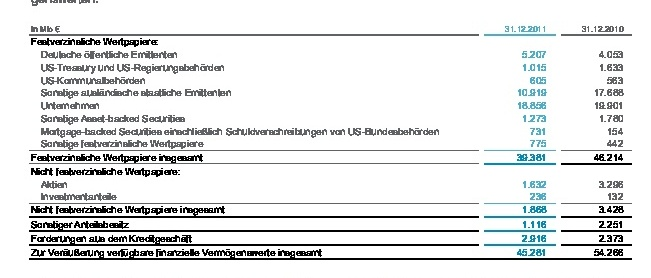table: (0, 0, 651, 278)
